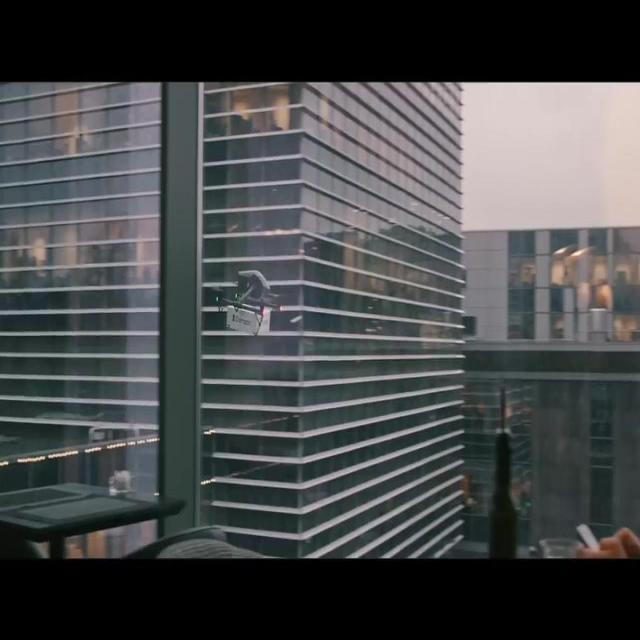UAV: (212, 270, 282, 327)
